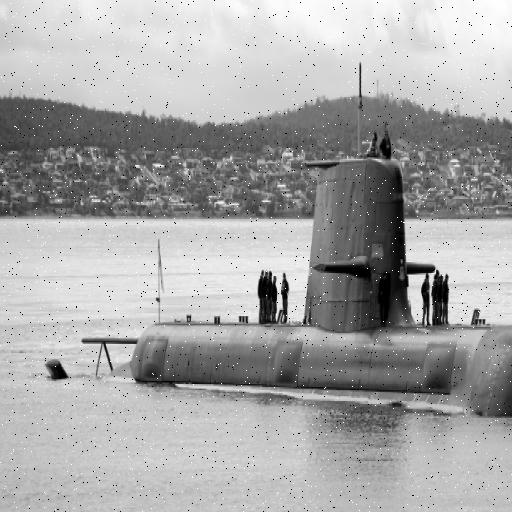submarine: (47, 144, 512, 412)
